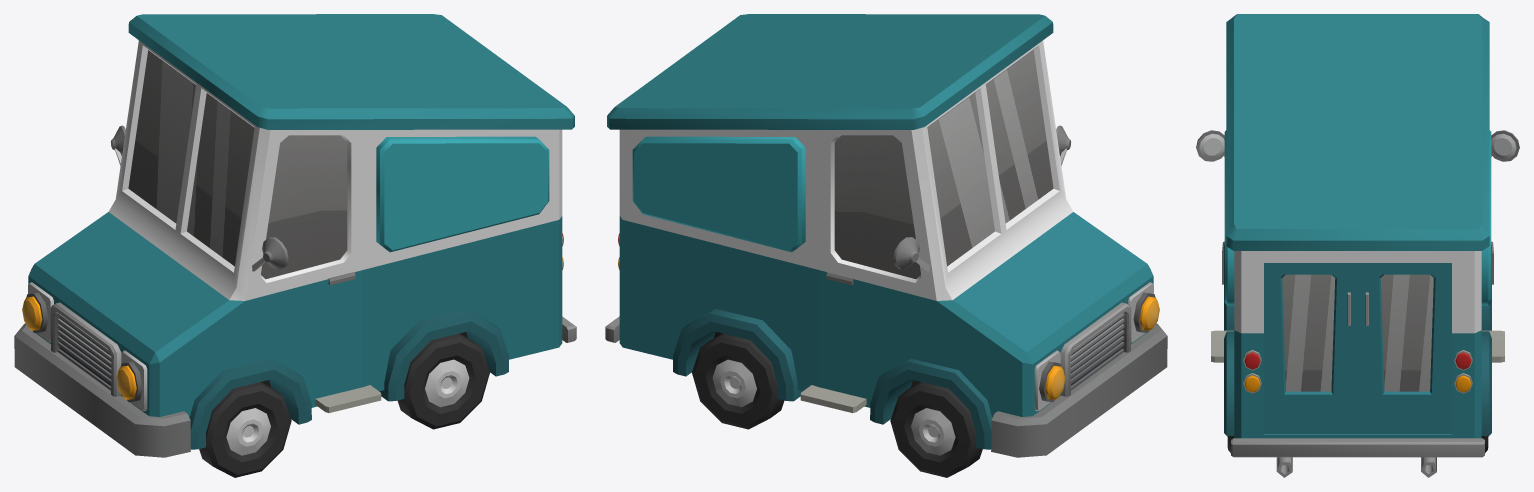
Rendered from Car_15_E.gltf.
3 views of the same model, side by side, from view 1: azimuth 30°, elevation 25°; view 2: azimuth 150°, elevation 25°; view 3: azimuth 270°, elevation 25° (orthographic). The views are drawn at different scales.
Parts seen in each view (by area): view 1: Car_15_E, RL, FL; view 2: Car_15_E, RR, FR; view 3: Car_15_E.
Part boxes in pixels (x1=…): Car_15_E: x1=14, y1=14, x2=576, y2=457; RL: x1=397, y1=333, x2=489, y2=429; FL: x1=199, y1=382, x2=291, y2=477; Car_15_E: x1=605, y1=14, x2=1167, y2=457; RR: x1=692, y1=333, x2=784, y2=429; FR: x1=890, y1=382, x2=982, y2=477; Car_15_E: x1=1196, y1=14, x2=1519, y2=477.
Bounding box in the file's own units: 2.75 × 2.13 × 1.8.
4 materials, 4 textured.
